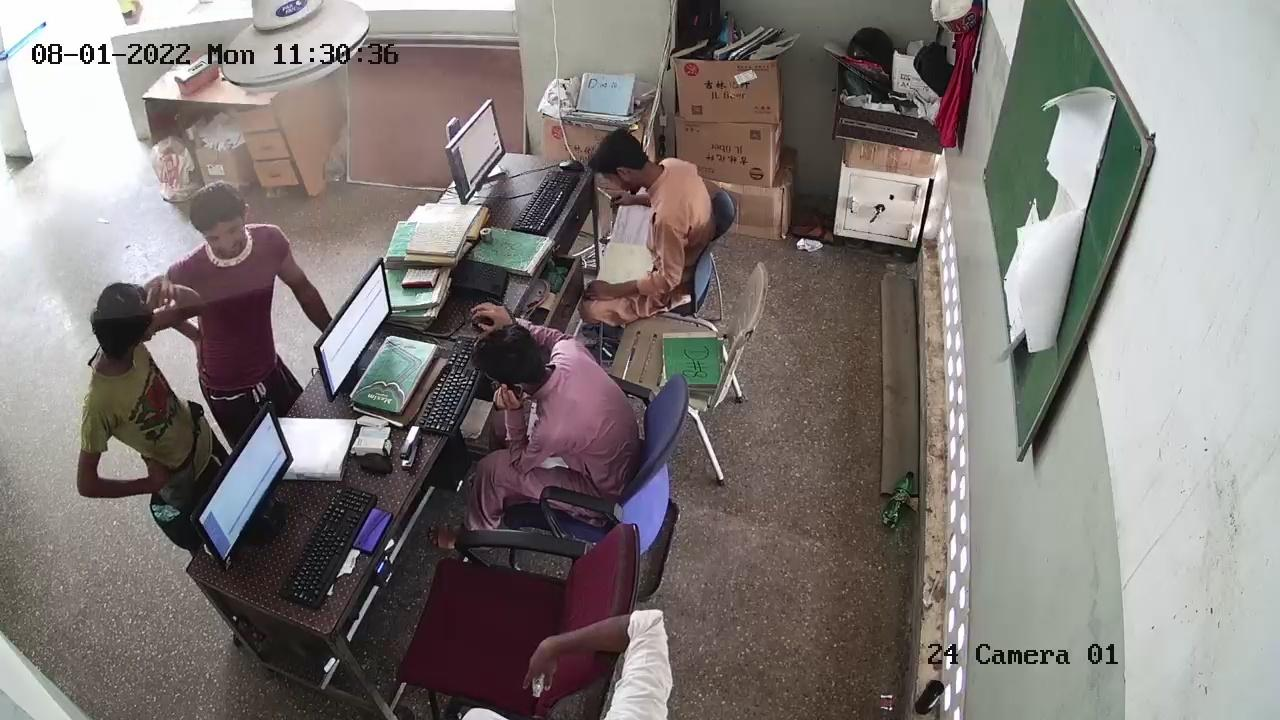person: (479, 317, 685, 510), (171, 182, 284, 390), (86, 293, 202, 493), (589, 123, 702, 277)
